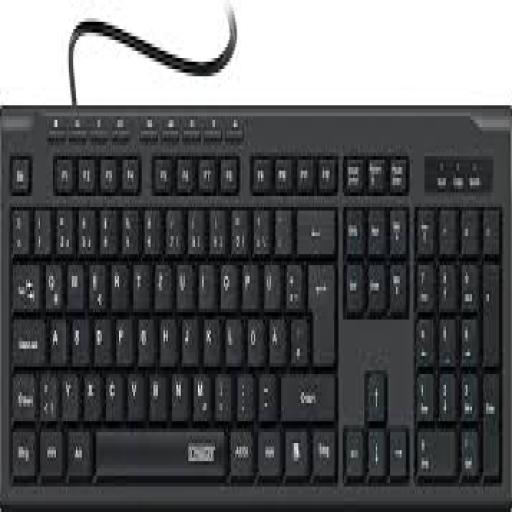keyboard: (0, 105, 511, 508)
